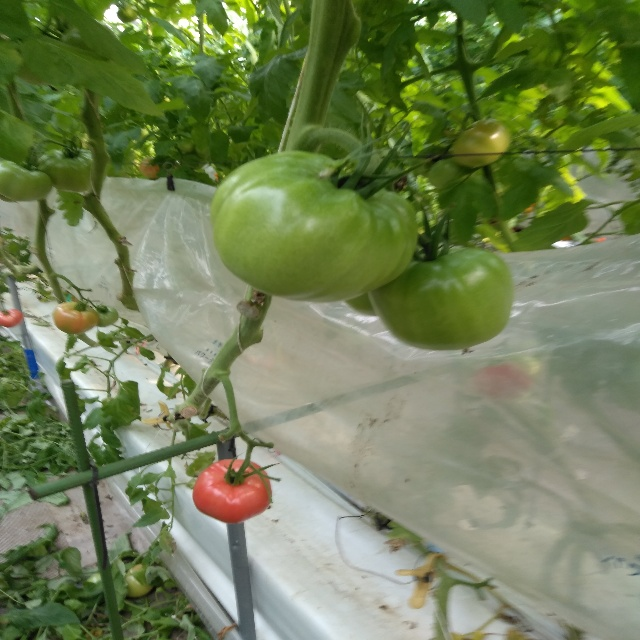b_fully_ripened: (192, 458, 272, 524), (0, 308, 22, 327)
b_green: (209, 150, 418, 303), (366, 248, 514, 351), (36, 148, 107, 192), (0, 158, 52, 201), (428, 158, 473, 188), (94, 305, 119, 327)
b_half_ripened: (450, 119, 510, 169), (52, 301, 98, 334)
